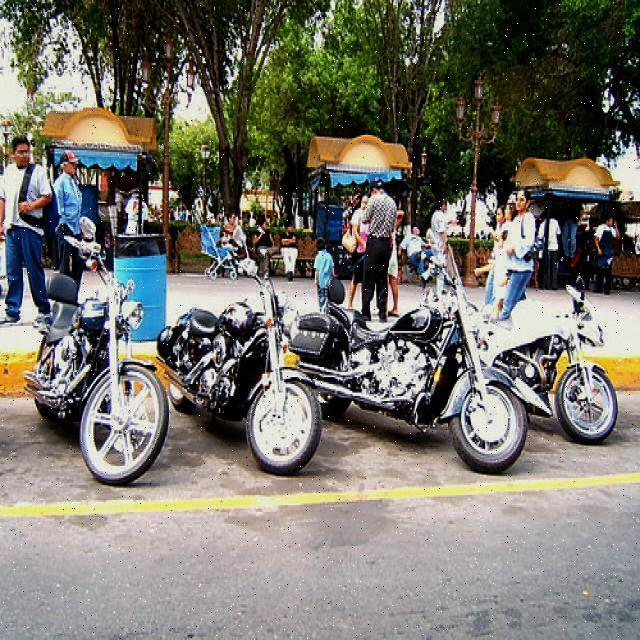motorcycle: (289, 223, 527, 478), (151, 245, 325, 476), (16, 260, 170, 485), (474, 274, 628, 448)
